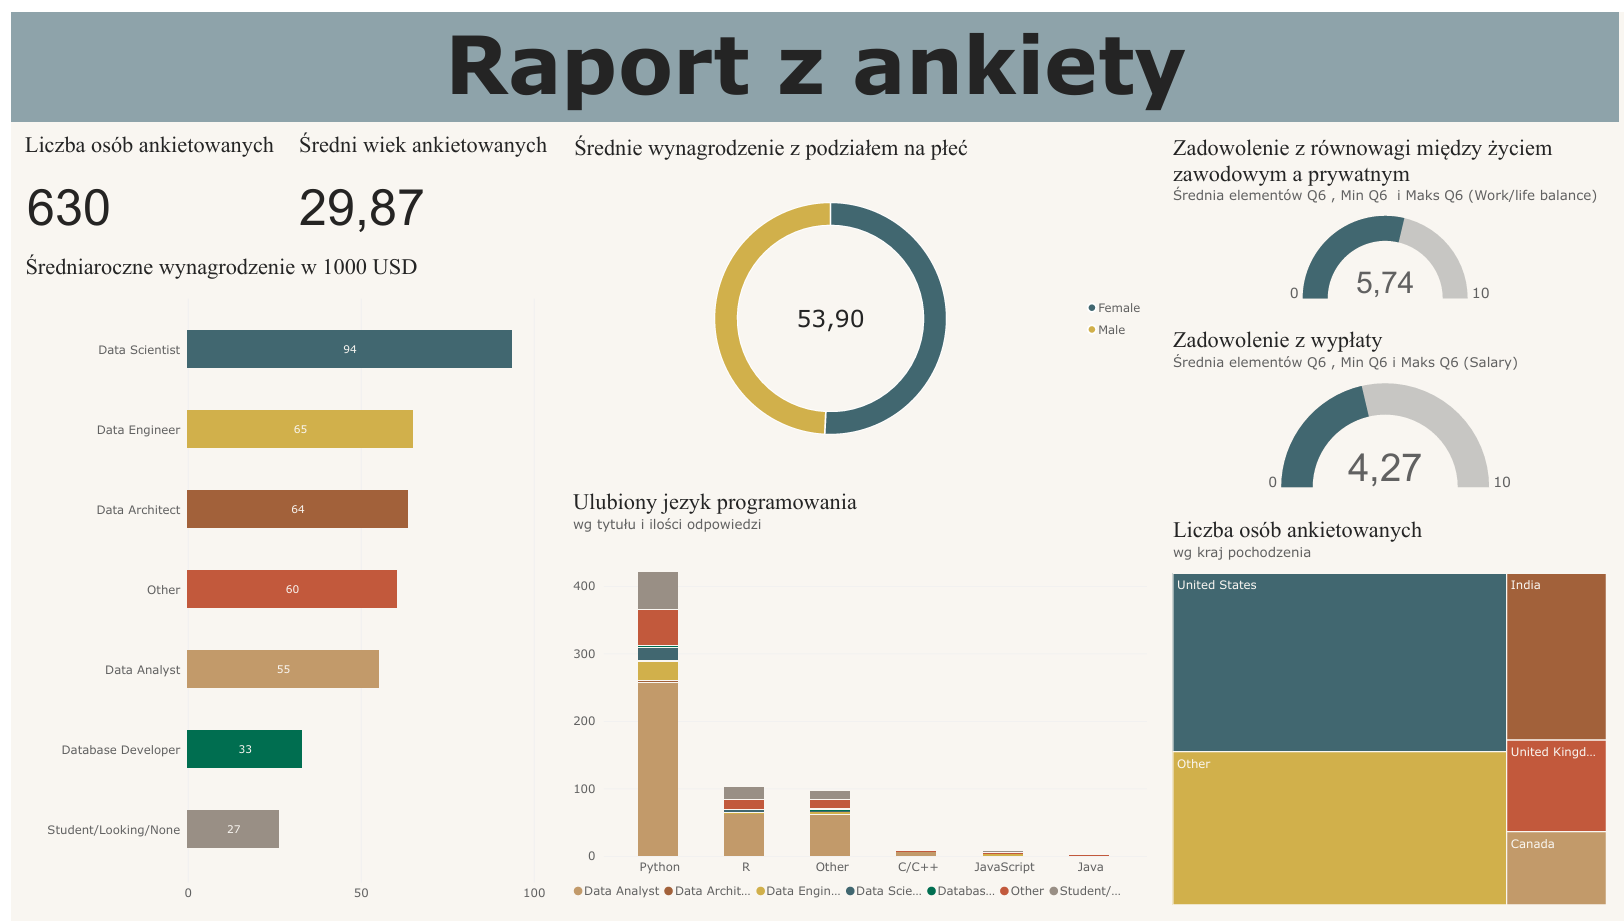

The dashboard page shown, as its layout file describes it:
{"tool":"powerbi","page":{"name":"Strona 1","canvas":[1920,1080],"ordinal":0},"visuals":[{"type":"textbox","box":[0,0,1920,131.3],"z":0},{"type":"cardVisual","title":"Liczba osób ankietowanych","fields":{"Data":["Count(Data Professional Survey.Unique ID)"]},"box":[1.5,141.4,325.1,141.4],"z":1},{"type":"cardVisual","title":"Średni wiek ankietowanych","fields":{"Data":["Avg(Data Professional Survey.Q10 - Current Age)"]},"box":[326.6,141.4,328,141.4],"z":2},{"type":"barChart","title":"Średniaroczne wynagrodzenie w 1000 USD ","fields":{"Category":["Data Professional Survey.Q1 - Which Title Best Fits your Current Role?.1"],"Series":["Data Professional Survey.Q1 - Which Title Best Fits your Current Role?.1"],"Y":["Avg(Data Professional Survey.average salary (in 1000 USD))"]},"box":[0,272.6,653.1,806.2],"z":3},{"type":"columnChart","fields":{"Category":["Data Professional Survey.Q5 - Favorite Programming Language.1"],"Series":["Data Professional Survey.Q1 - Which Title Best Fits your Current Role?.1"],"Y":["CountNonNull(Data Professional Survey.Unique ID)"]},"box":[653.1,554,717.3,524.8],"z":4},{"type":"treemap","fields":{"Group":["Data Professional Survey.Q11 - Which Country do you live in?.1"],"Values":["CountNonNull(Data Professional Survey.Unique ID)"]},"box":[1370.4,587.5,549.6,492.8],"z":5},{"type":"gauge","title":"Zadowolenie z równowagi między życiem zawodowym a prywatnym","fields":{"MaxValue":["Max(Data Professional Survey.Q6 - How Happy are you in your Current Position with the following? (Work/Life Balance))"],"MinValue":["Min(Data Professional Survey.Q6 - How Happy are you in your Current Position with the following? (Work/Life Balance))1"],"Y":["Avg(Data Professional Survey.Q6 - How Happy are you in your Current Position with the following? (Work/Life Balance))"]},"box":[1370.4,131.2,549.6,230.3],"z":6},{"type":"gauge","title":"Zadowolenie z wypłaty","fields":{"MaxValue":["Max(Data Professional Survey.Q6 - How Happy are you in your Current Position with the following? (Salary))"],"MinValue":["Min(Data Professional Survey.Q6 - How Happy are you in your Current Position with the following? (Salary))"],"Y":["Avg(Data Professional Survey.Q6 - How Happy are you in your Current Position with the following? (Salary))"]},"box":[1370.4,361.5,549.6,226],"z":7},{"type":"donutChart","title":"Średnie wynagrodzenie z podziałem na płeć","fields":{"Category":["Data Professional Survey.Q9 - Male/Female?"],"Y":["Avg(Data Professional Survey.average salary (in 1000 USD))"]},"box":[654.6,131.2,717.3,422.8],"z":8}]}

Visuals, with their boxes in screenshot pixels (x1, y1, x2, y2), scaled from the page's 1920x1080 canvas onto the 1624x921 screenshot:
textbox: <region>0, 0, 1623, 112</region>
"Liczba osób ankietowanych" cardVisual: <region>1, 121, 276, 241</region>
"Średni wiek ankietowanych" cardVisual: <region>276, 121, 554, 241</region>
"Średniaroczne wynagrodzenie w 1000 USD " barChart: <region>0, 232, 552, 920</region>
columnChart - Data Professional Survey.Q5 - Favorite Programming Language.1 x Data Professional Survey.Q1 - Which Title Best Fits your Current Role?.1: <region>552, 472, 1159, 920</region>
treemap - Data Professional Survey.Q11 - Which Country do you live in?.1 x CountNonNull(Data Professional Survey.Unique ID): <region>1159, 501, 1623, 920</region>
"Zadowolenie z równowagi między życiem zawodowym a prywatnym" gauge: <region>1159, 112, 1623, 308</region>
"Zadowolenie z wypłaty" gauge: <region>1159, 308, 1623, 501</region>
"Średnie wynagrodzenie z podziałem na płeć" donutChart: <region>554, 112, 1160, 472</region>
